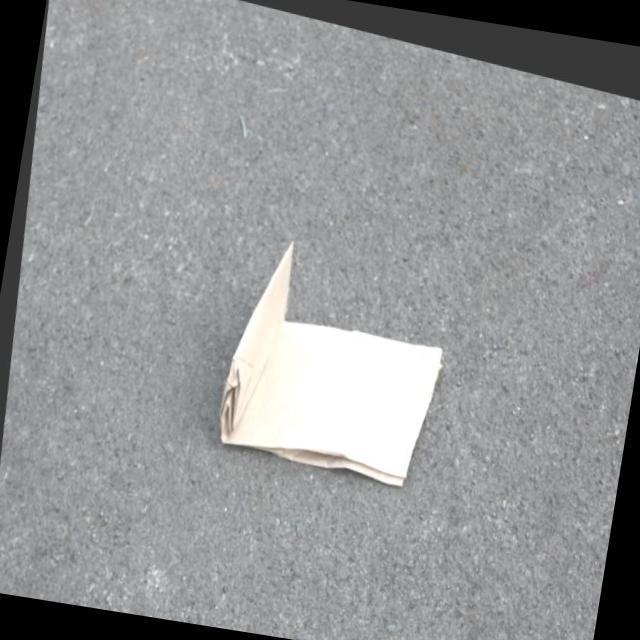Paper_Bag: (204, 222, 459, 485)
